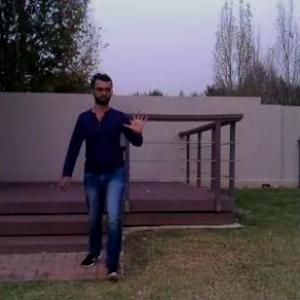follow_hand: (125, 104, 152, 136)
